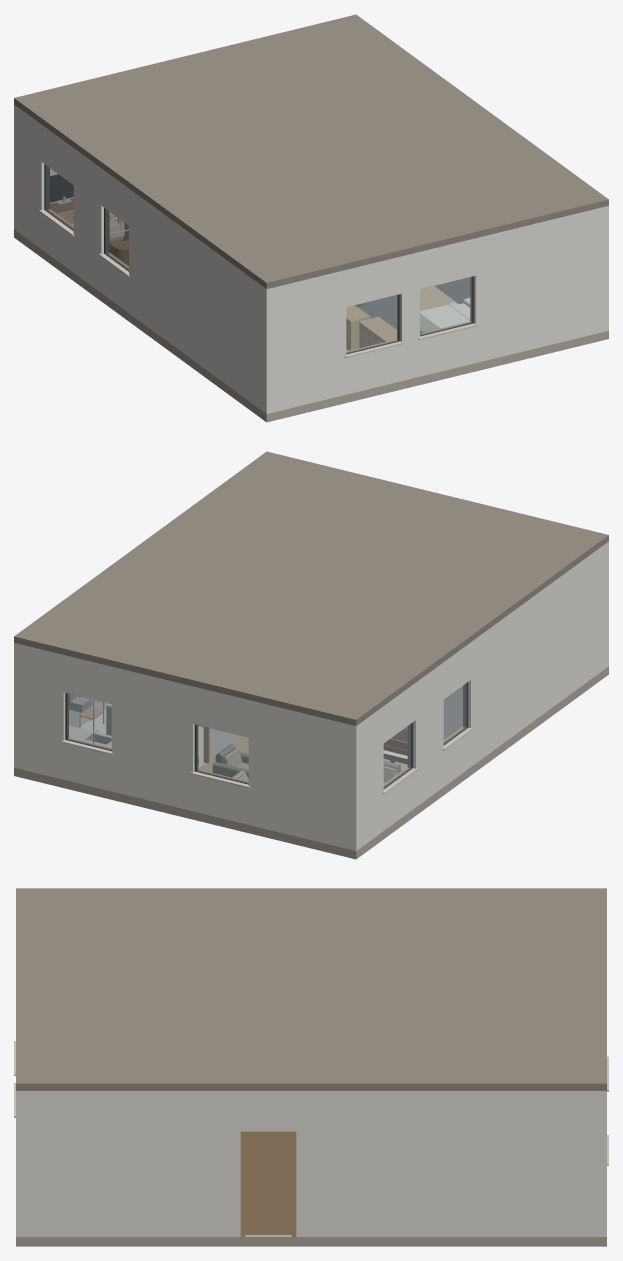
Rendered from furnished-flat.glb.
3 views of the same model, one above another, from view 1: azimuth 30°, elevation 25°; view 2: azimuth 150°, elevation 25°; view 3: azimuth 270°, elevation 25° (orthographic). The views are drawn at different scales.
Parts seen in each view (by area): view 1: roof:roof, wall:w_south, wall:w_west, slab:slab, window:window_6:glass, window:window_5:glass, window:window_3:glass, furniture:bed_30, window:window_4:glass, wall:w_east, furniture:tv_unit_2, furniture:dresser_29 (+5 smaller); view 2: roof:roof, wall:w_north, wall:w_west, slab:slab, window:window_1:glass, window:window_2:glass, window:window_3:glass, window:window_4:glass, furniture:armchair_5, wall:w_hall_n, furniture:piano_8, wall:w_south (+2 smaller); view 3: roof:roof, wall:w_east, slab:slab, door:d_front, wall:w_north, door:d_front:casing.
Part boxes in pixels (x1,y1,x2,y2): roof:roof: (14,14,608,288); wall:w_south: (262,207,600,413); wall:w_west: (18,108,261,410); slab:slab: (14,229,608,422); window:window_6:glass: (420,277,471,335); window:window_5:glass: (346,295,397,352); window:window_3:glass: (46,165,73,229); furniture:bed_30: (420,298,470,333); window:window_4:glass: (106,209,128,269); wall:w_east: (601,206,608,332); furniture:tv_unit_2: (50,174,73,223); furniture:dresser_29: (359,316,396,347); roof:roof: (14,451,608,725); wall:w_north: (14,643,360,850); wall:w_west: (361,545,604,847); slab:slab: (14,666,608,859); window:window_1:glass: (197,725,248,783); window:window_2:glass: (67,693,111,749); window:window_3:glass: (384,724,410,787); window:window_4:glass: (444,683,466,743); furniture:armchair_5: (212,744,248,777); wall:w_hall_n: (443,686,462,739); furniture:piano_8: (383,726,407,764); wall:w_south: (604,541,608,669); roof:roof: (16,888,606,1090); wall:w_east: (16,1091,595,1236); slab:slab: (16,1235,606,1246); door:d_front: (245,1135,291,1234); wall:w_north: (596,1091,606,1236); door:d_front:casing: (240,1131,296,1237).
Size of the model in its own units: 8.66 by 3.35 by 11.08.
